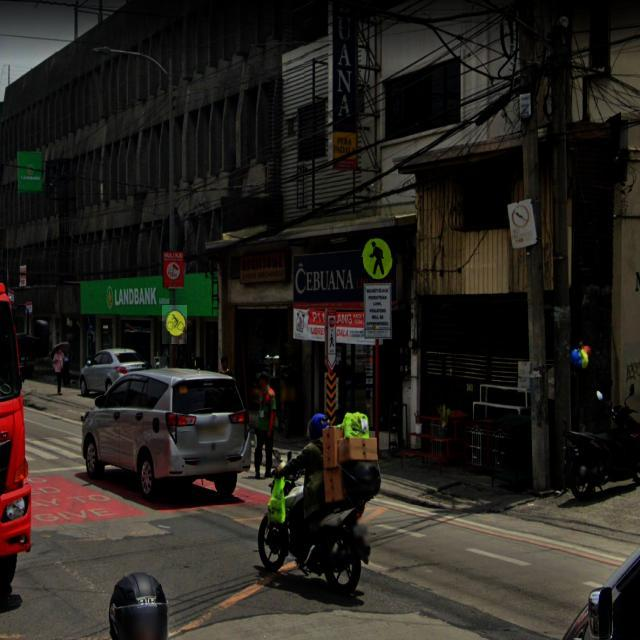bike lane: (162, 305, 187, 344)
pedestrian crossing: (362, 234, 396, 279)
